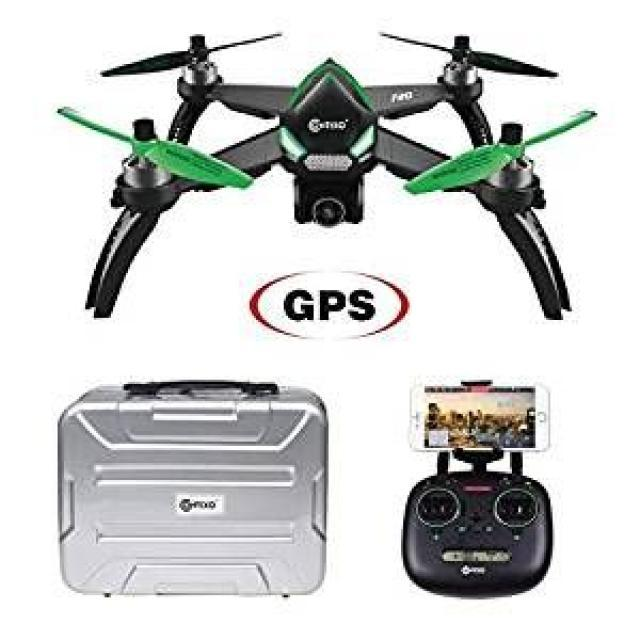drone: (49, 13, 608, 339)
